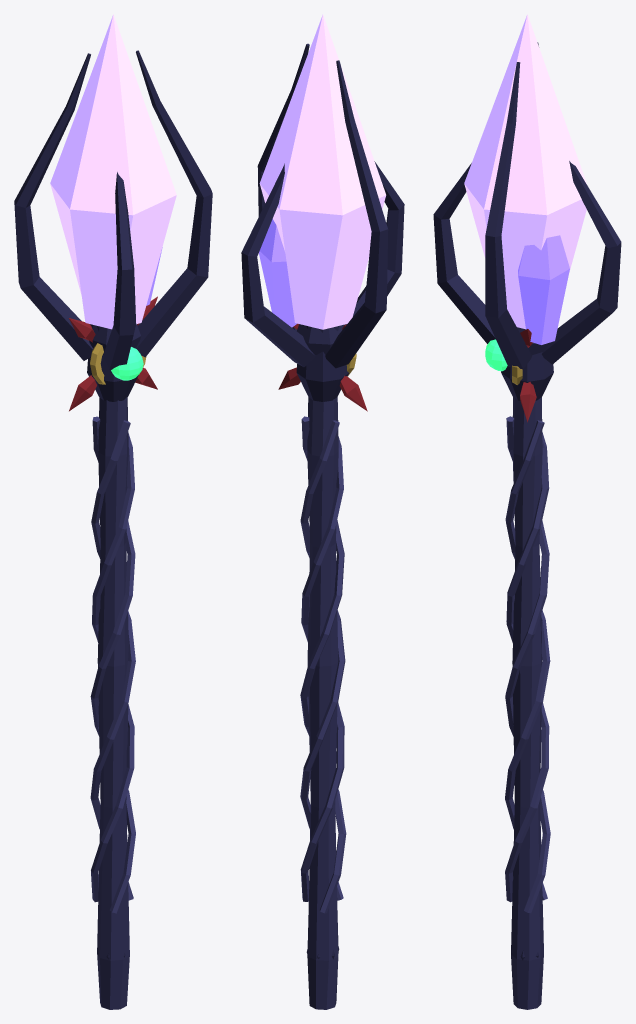
File: staff_lavender.glb
3 renders of one model, left to right at view 1: azimuth 30°, elevation 25°; view 2: azimuth 150°, elevation 25°; view 3: azimuth 270°, elevation 25°, orthographic.
Parts seen in each view (by area): view 1: Lv_Crystal, Lv_Shaft, Lv_Claw3, Lv_Claw1, Lv_Claw2, Lv_Vine1, Lv_Vine2, Lv_Vine0, Lv_Neck, Lv_Gem, Lv_Seat, Lv_Collar; view 2: Lv_Crystal, Lv_Shaft, Lv_Claw1, Lv_Claw0, Lv_Vine0, Lv_Vine1, Lv_Vine2, Lv_Crystal2, Lv_Claw2, Lv_Neck, Lv_Claw3, Lv_Seat (+1 smaller); view 3: Lv_Crystal, Lv_Shaft, Lv_Claw3, Lv_Crystal2, Lv_Claw0, Lv_Claw2, Lv_Vine2, Lv_Vine0, Lv_Vine1, Lv_Neck, Lv_Gem.
Boxes of the visible parts, x1=… form: Lv_Crystal: x1=50, y1=14, x2=176, y2=329; Lv_Shaft: x1=97, y1=397, x2=129, y2=1009; Lv_Claw3: x1=136, y1=50, x2=212, y2=357; Lv_Claw1: x1=14, y1=53, x2=92, y2=360; Lv_Claw2: x1=103, y1=172, x2=136, y2=369; Lv_Vine1: x1=91, y1=433, x2=134, y2=902; Lv_Vine2: x1=90, y1=416, x2=135, y2=913; Lv_Vine0: x1=90, y1=420, x2=135, y2=900; Lv_Neck: x1=87, y1=324, x2=138, y2=401; Lv_Gem: x1=111, y1=347, x2=143, y2=380; Lv_Seat: x1=89, y1=324, x2=140, y2=354; Lv_Collar: x1=90, y1=343, x2=146, y2=384; Lv_Crystal: x1=259, y1=14, x2=386, y2=329; Lv_Shaft: x1=307, y1=397, x2=338, y2=1009; Lv_Claw1: x1=325, y1=60, x2=388, y2=368; Lv_Claw0: x1=241, y1=163, x2=315, y2=366; Lv_Vine0: x1=300, y1=436, x2=344, y2=901; Lv_Vine1: x1=300, y1=416, x2=346, y2=913; Lv_Vine2: x1=300, y1=420, x2=345, y2=900; Lv_Crystal2: x1=259, y1=219, x2=296, y2=327; Lv_Claw2: x1=353, y1=161, x2=404, y2=316; Lv_Neck: x1=296, y1=324, x2=348, y2=401; Lv_Claw3: x1=257, y1=43, x2=309, y2=330; Lv_Seat: x1=297, y1=324, x2=346, y2=355; Lv_Crystal: x1=464, y1=14, x2=586, y2=329; Lv_Shaft: x1=511, y1=397, x2=543, y2=1009; Lv_Claw3: x1=485, y1=62, x2=531, y2=369; Lv_Crystal2: x1=518, y1=235, x2=569, y2=344; Lv_Claw0: x1=541, y1=161, x2=621, y2=364; Lv_Claw2: x1=433, y1=163, x2=495, y2=343; Lv_Vine2: x1=505, y1=432, x2=549, y2=902; Lv_Vine0: x1=505, y1=416, x2=550, y2=913; Lv_Vine1: x1=505, y1=420, x2=550, y2=900; Lv_Neck: x1=501, y1=327, x2=553, y2=400; Lv_Gem: x1=485, y1=339, x2=507, y2=371.
Size of the model in its own units: 0.4065 by 2.36 by 0.4061.
